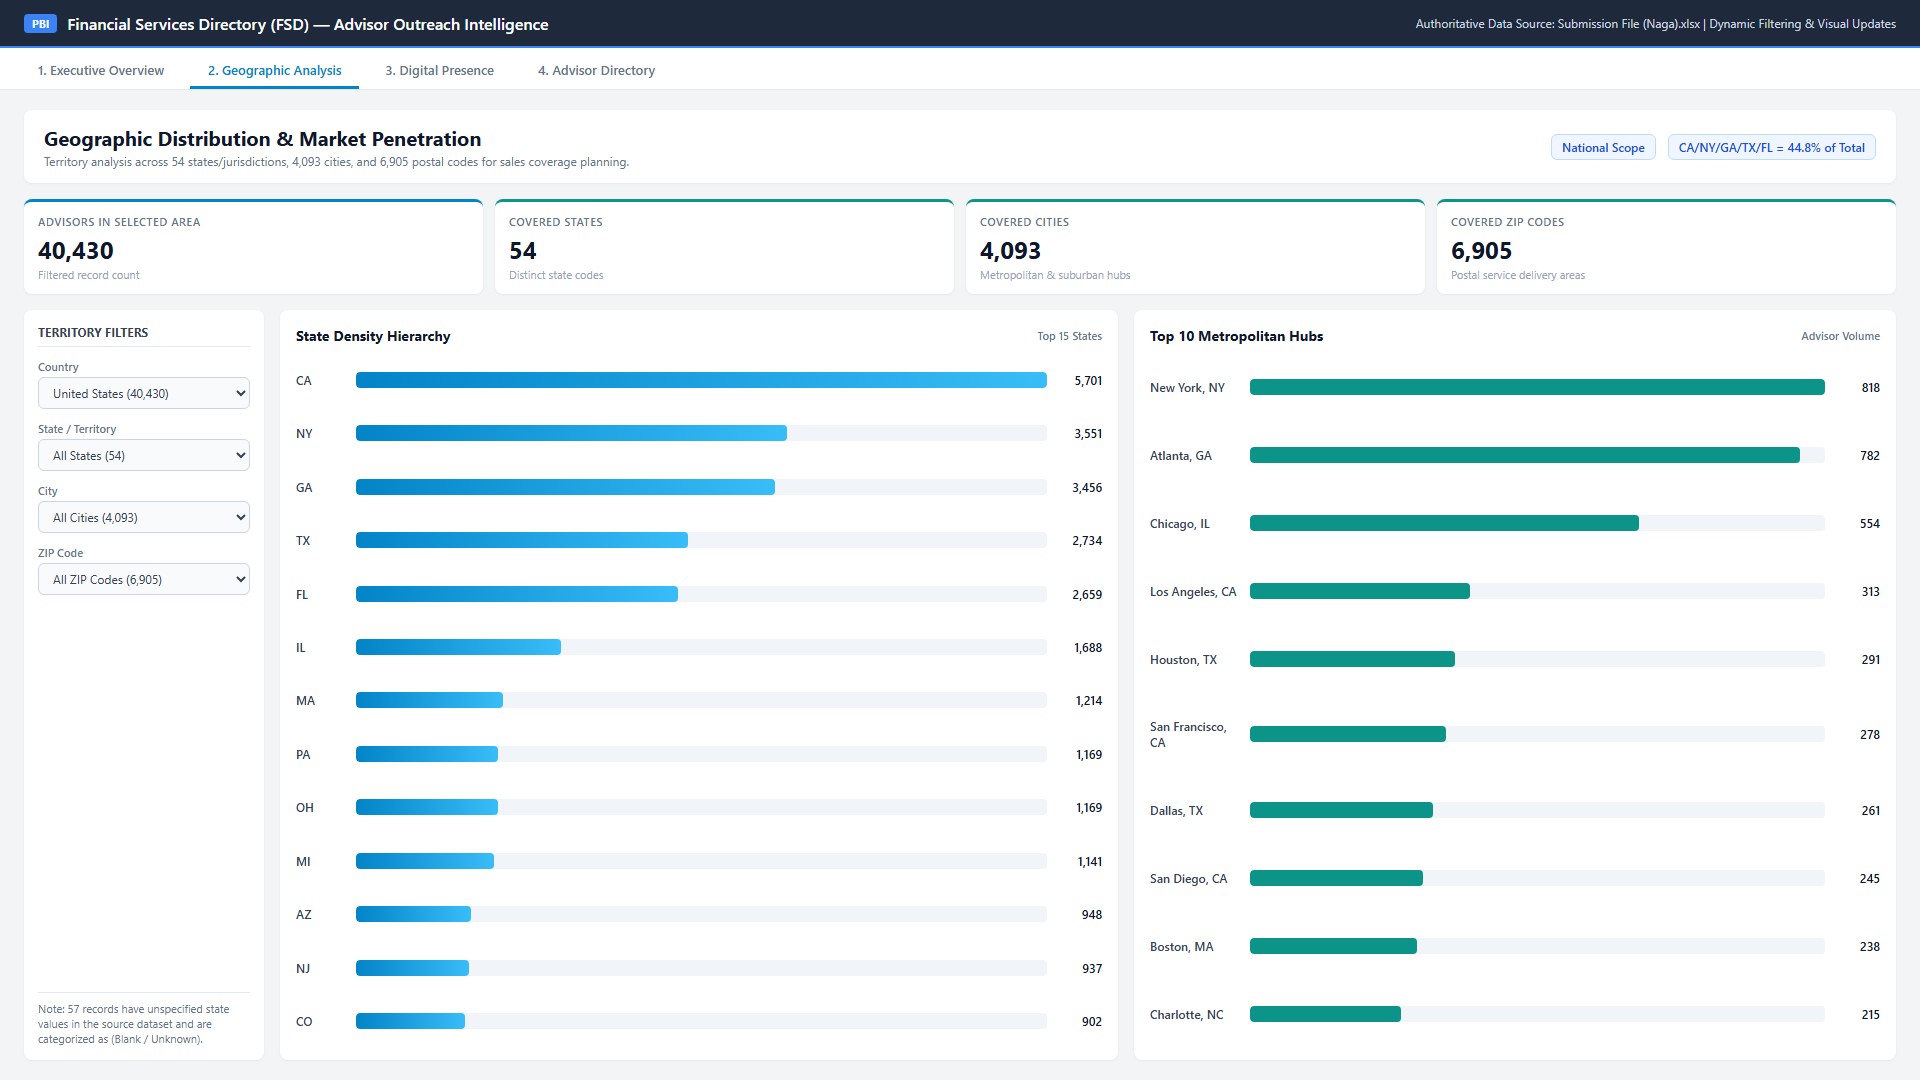

What the dashboard file says about the page in this screenshot:
{"tool":"powerbi","page":{"name":"Geographic Analysis","canvas":[1280,720],"ordinal":1},"visuals":[{"type":"slicer","fields":{"Values":["FSD Directory.state"]},"box":[20,20,180,160],"z":1000},{"type":"card","fields":{"Values":["_Measures.Filtered Advisor Count"]},"box":[220,20,240,80],"z":1000},{"type":"card","fields":{"Values":["_Measures.Unique States"]},"box":[480,20,240,80],"z":1000},{"type":"card","fields":{"Values":["_Measures.Unique Cities"]},"box":[740,20,240,80],"z":1000},{"type":"card","fields":{"Values":["_Measures.Unique ZIP Codes"]},"box":[1000,20,250,80],"z":1000},{"type":"clusteredBarChart","fields":{"Category":["FSD Directory.state"],"Y":["_Measures.Filtered Advisor Count"]},"box":[220,120,510,570],"z":1000},{"type":"clusteredBarChart","fields":{"Category":["FSD Directory.city"],"Y":["_Measures.Filtered Advisor Count"]},"box":[750,120,500,270],"z":1000},{"type":"slicer","fields":{"Values":["FSD Directory.city"]},"box":[20,190,180,160],"z":1000},{"type":"slicer","fields":{"Values":["FSD Directory.zip"]},"box":[20,360,180,160],"z":1000},{"type":"tableEx","fields":{"Values":["FSD Directory.state","FSD Directory.city","FSD Directory.zip","FSD Directory.firm","FSD Directory.phone"]},"box":[750,410,500,280],"z":1000},{"type":"slicer","fields":{"Values":["FSD Directory.country"]},"box":[20,530,180,150],"z":1000}]}

Visuals, with their boxes on the page's 1280x720 design canvas (x1, y1, x2, y2). These are canvas units, not pixel positions in the 1920x1080 screenshot, which may show the page scaled, cropped or inside an application window:
slicer - FSD Directory.state: detection(20, 20, 200, 180)
card - _Measures.Filtered Advisor Count: detection(220, 20, 460, 100)
card - _Measures.Unique States: detection(480, 20, 720, 100)
card - _Measures.Unique Cities: detection(740, 20, 980, 100)
card - _Measures.Unique ZIP Codes: detection(1000, 20, 1250, 100)
clusteredBarChart - FSD Directory.state x _Measures.Filtered Advisor Count: detection(220, 120, 730, 690)
clusteredBarChart - FSD Directory.city x _Measures.Filtered Advisor Count: detection(750, 120, 1250, 390)
slicer - FSD Directory.city: detection(20, 190, 200, 350)
slicer - FSD Directory.zip: detection(20, 360, 200, 520)
tableEx - FSD Directory.state x FSD Directory.city: detection(750, 410, 1250, 690)
slicer - FSD Directory.country: detection(20, 530, 200, 680)
